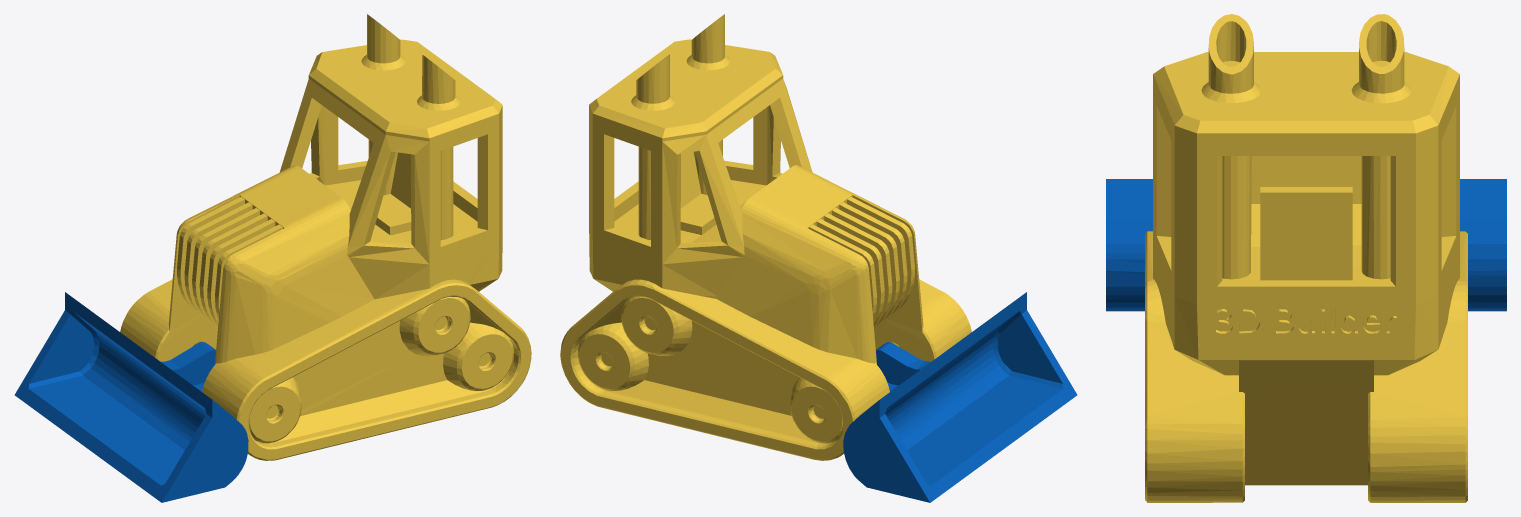
The model's file is Bulldozer.glb.
3 views of the same model, side by side, from view 1: azimuth 30°, elevation 25°; view 2: azimuth 150°, elevation 25°; view 3: azimuth 270°, elevation 25° (orthographic). The views are drawn at different scales.
Bounding box in the file's own units: 0.0604 × 0.0507 × 0.04.
